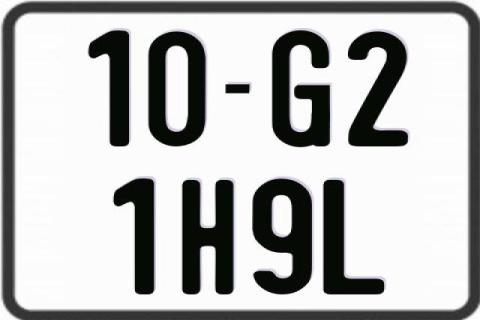0: (249, 178, 314, 294), (346, 32, 407, 152), (146, 31, 206, 149), (112, 178, 158, 298), (88, 30, 130, 146)
G: (272, 30, 336, 148)
H: (179, 177, 234, 297)
L: (323, 179, 387, 295)
